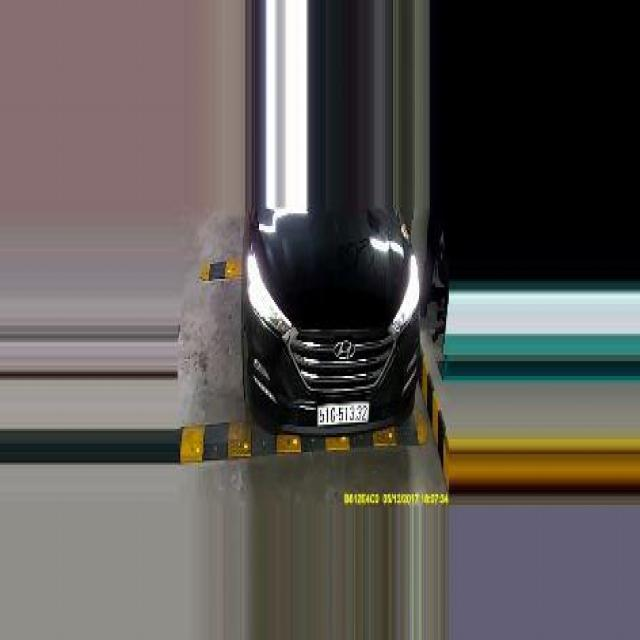License-Plates: (314, 394, 373, 434)
